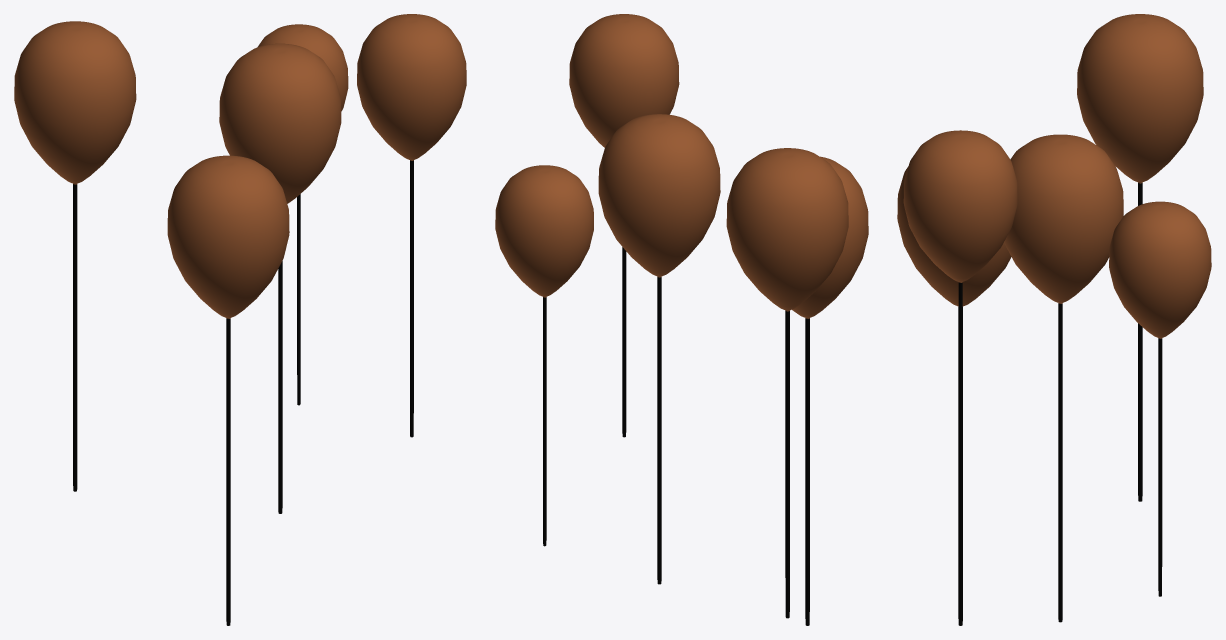
File: Obstacle_02.fbx
The picture shows the model from 3 angles, left to right: view 1: azimuth 30°, elevation 25°; view 2: azimuth 150°, elevation 25°; view 3: azimuth 270°, elevation 25°; orthographic projection. The views are drawn at different scales.
Parts seen in each view (by area): view 1: Ballon; view 2: Ballon; view 3: Ballon.
Part boxes in pixels (x1=…): Ballon: x1=14, y1=14, x2=466, y2=625; Ballon: x1=495, y1=14, x2=868, y2=625; Ballon: x1=897, y1=14, x2=1211, y2=625.
Size of the model in its own units: 294 by 450 by 220.
